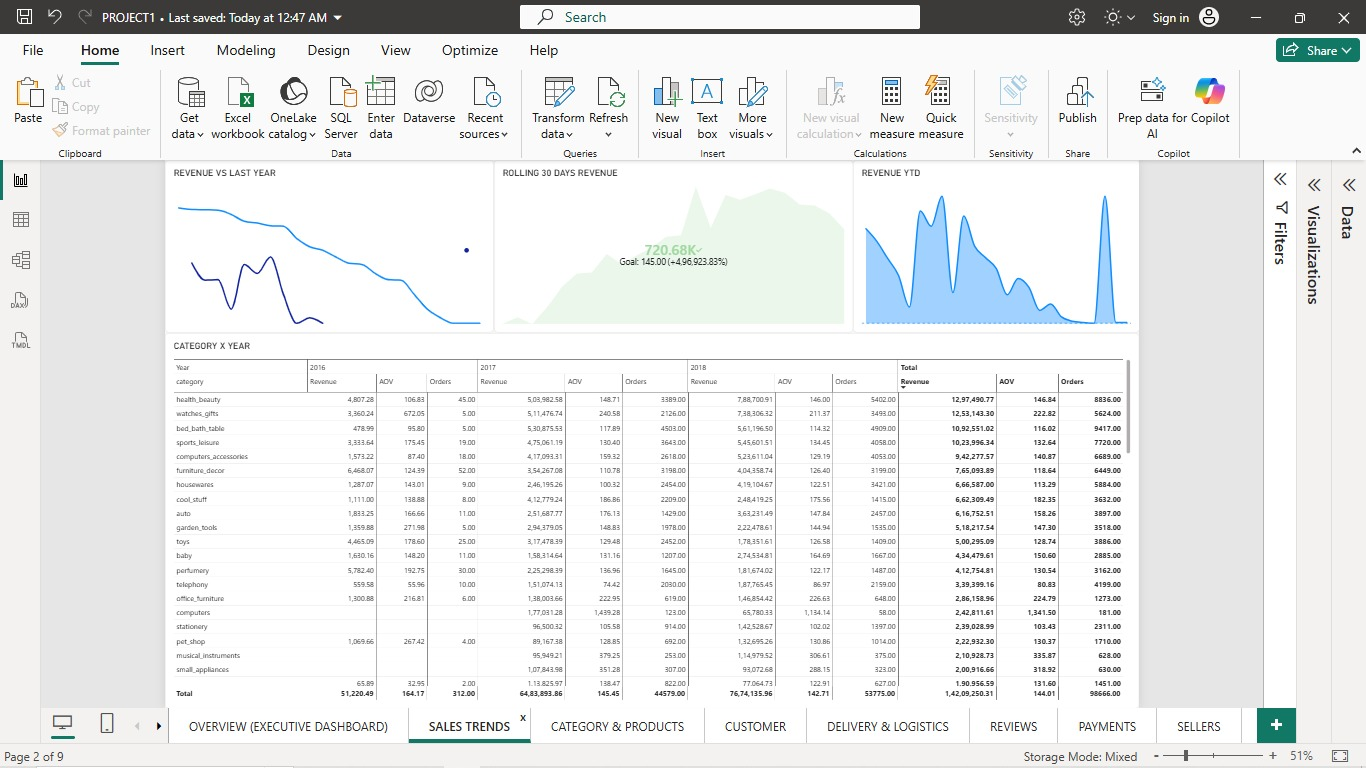

The dashboard page shown, as its layout file describes it:
{"tool":"powerbi","page":{"name":"SALES TRENDS","canvas":[1920,1080],"ordinal":1},"visuals":[{"type":"lineChart","title":"REVENUE VS LAST YEAR","fields":{"Category":["DimDate.Year-Month"],"Y":["public bi_fact_sales.Revenue","public bi_fact_sales.Revenue LY"]},"box":[0,0,647.5,340],"z":0},{"type":"kpi","title":"ROLLING 30 DAYS REVENUE","fields":{"Goal":["public bi_fact_sales.Revenue"],"Indicator":["public bi_fact_sales.Rolling 30D Revenue"],"TrendLine":["DimDate.Year-Month"]},"box":[647.5,0,707.5,340],"z":1},{"type":"areaChart","title":"REVENUE YTD","fields":{"Category":["DimDate.Year-Month"],"Y":["public bi_fact_sales.Revenue YTD"]},"box":[1355,0,565,340],"z":2},{"type":"pivotTable","title":"CATEGORY X YEAR","fields":{"Columns":["DimDate.Year"],"Rows":["public bi_fact_sales.category"],"Values":["public bi_fact_sales.Revenue","DimDate.AOV","public bi_fact_sales.Orders"]},"box":[0,340,1920,740],"z":3}]}

Visuals, with their boxes on the page's 1920x1080 design canvas (x1, y1, x2, y2). These are canvas units, not pixel positions in the 1366x768 screenshot, which may show the page scaled, cropped or inside an application window:
"REVENUE VS LAST YEAR" lineChart: detection(0, 0, 648, 340)
"ROLLING 30 DAYS REVENUE" kpi: detection(648, 0, 1355, 340)
"REVENUE YTD" areaChart: detection(1355, 0, 1920, 340)
"CATEGORY X YEAR" pivotTable: detection(0, 340, 1920, 1080)
